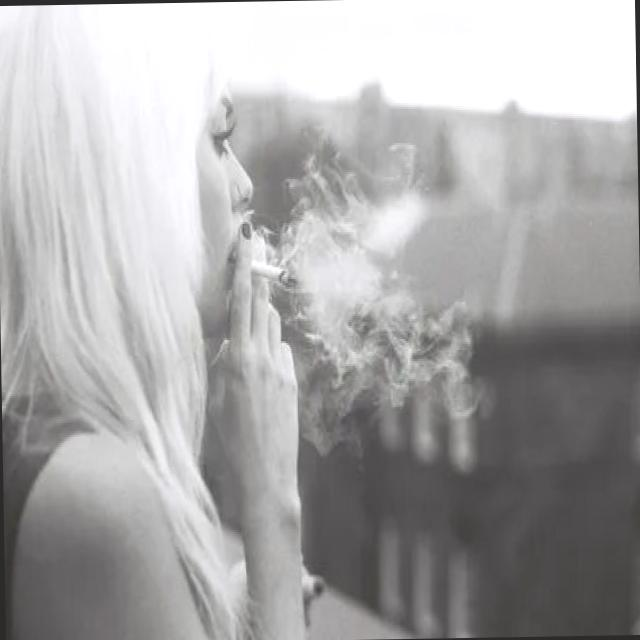cigarette: (242, 248, 292, 290)
